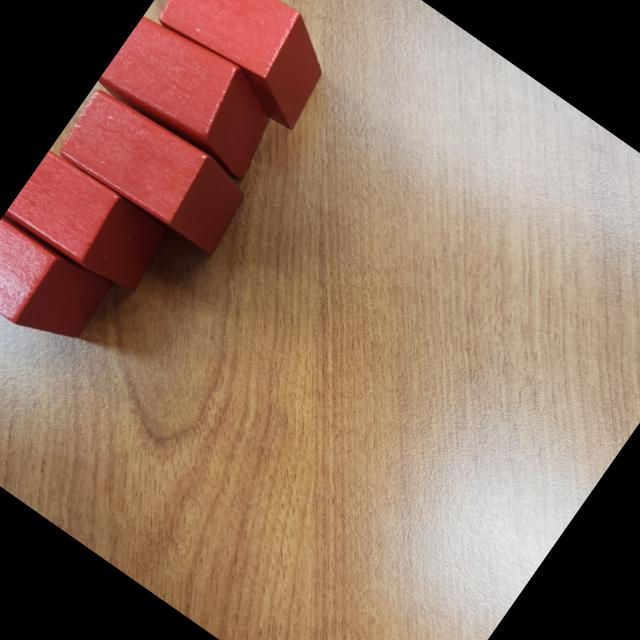red: (52, 80, 259, 260), (95, 5, 296, 186), (138, 0, 349, 134), (3, 147, 175, 301), (0, 214, 110, 357)
